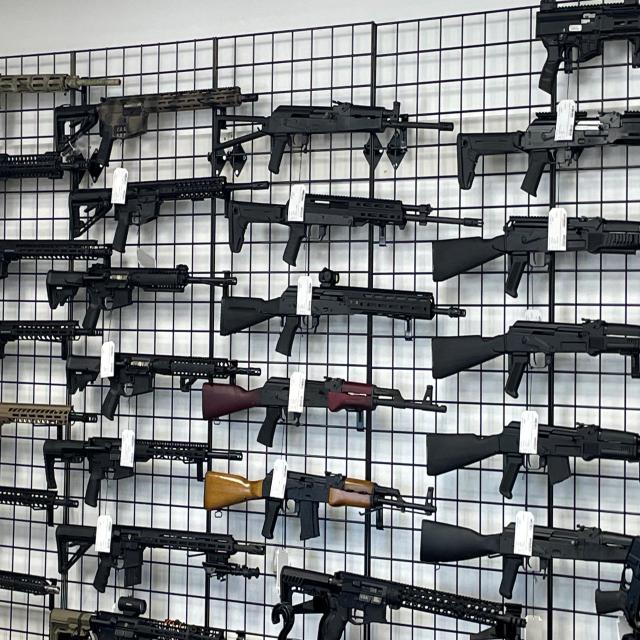Rifle: (432, 100, 640, 299), (220, 268, 467, 356), (420, 512, 640, 600), (229, 194, 482, 267), (204, 462, 436, 540), (280, 566, 523, 640), (212, 101, 446, 174), (432, 214, 640, 296), (202, 378, 447, 447), (425, 421, 640, 499), (431, 320, 640, 396), (69, 177, 269, 253), (55, 87, 243, 167), (43, 437, 242, 507), (46, 255, 221, 332), (66, 353, 261, 420), (56, 525, 266, 585), (49, 597, 244, 640)
